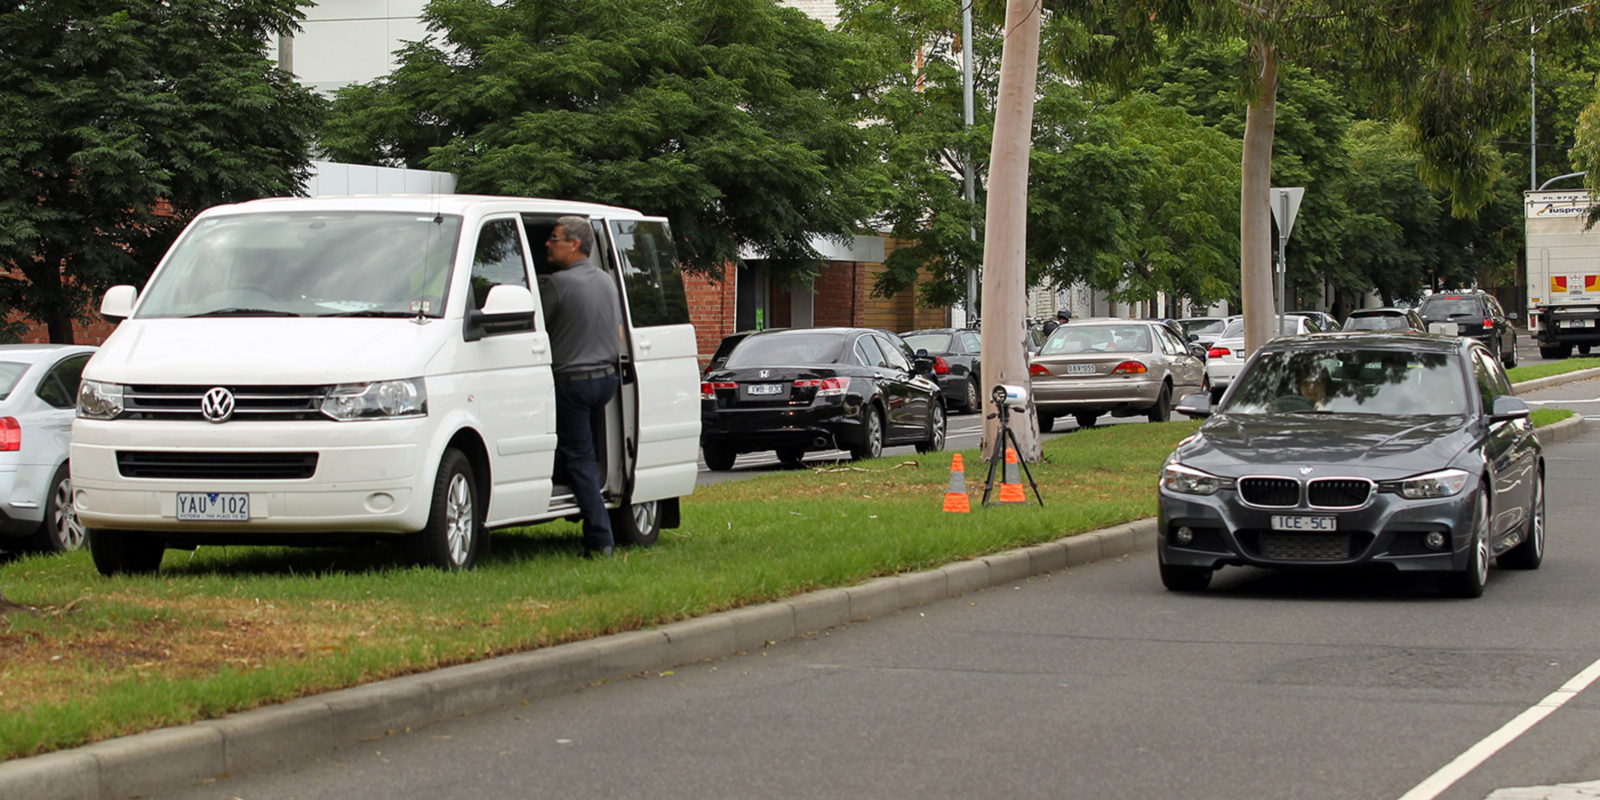license plate: (171, 489, 255, 526), (1268, 512, 1341, 533), (745, 380, 788, 398), (1063, 364, 1103, 375)
